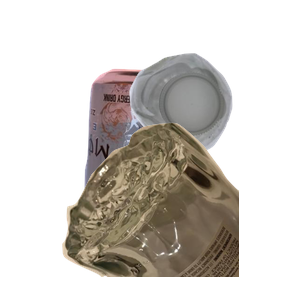glass: (60, 120, 300, 300)
metal: (82, 66, 270, 246)
plastic: (127, 51, 300, 197)
trash: (104, 152, 280, 300)
